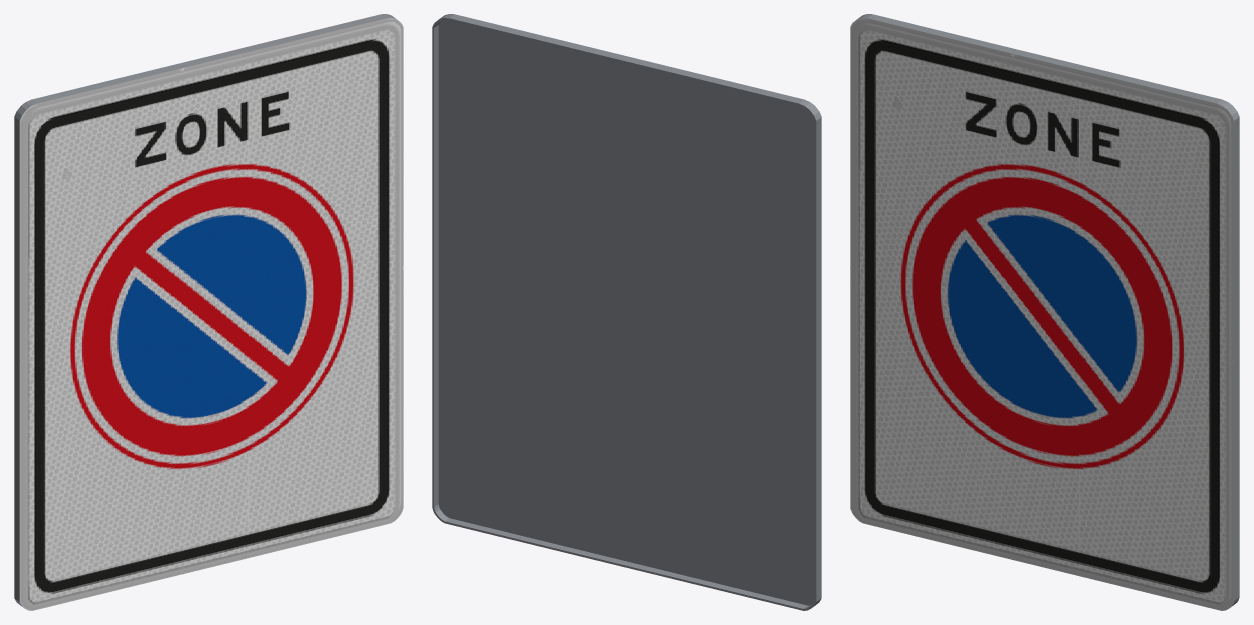
3 views of the same model, side by side, from view 1: azimuth 30°, elevation 25°; view 2: azimuth 150°, elevation 25°; view 3: azimuth 330°, elevation 25° (orthographic).
Parts seen in each view (by area): view 1: cat_272f59769d4e21e7; view 2: cat_272f59769d4e21e7; view 3: cat_272f59769d4e21e7.
Part boxes in pixels (<box>): cat_272f59769d4e21e7: <box>14,14,403,610</box>; cat_272f59769d4e21e7: <box>432,14,821,610</box>; cat_272f59769d4e21e7: <box>850,14,1239,610</box>.
Size of the model in its own units: 0.6 by 0.015 by 0.7558.
Materials: 2 (1 with a texture image).
